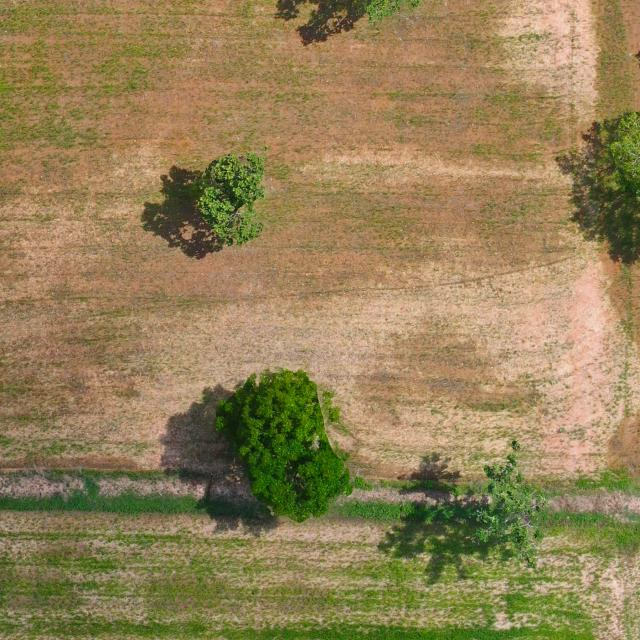Tree: (214, 367, 352, 526), (470, 439, 549, 574), (193, 150, 268, 246), (608, 107, 640, 240)
